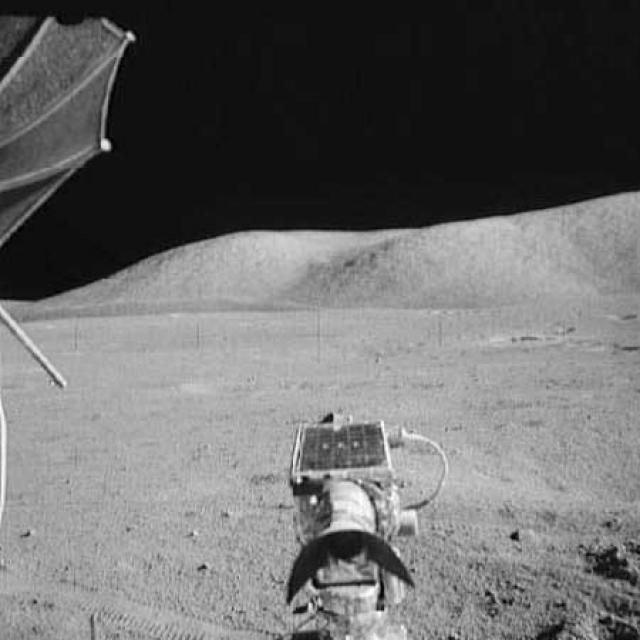artifact: (0, 8, 139, 519), (266, 402, 459, 640)
crater: (471, 327, 562, 355)
